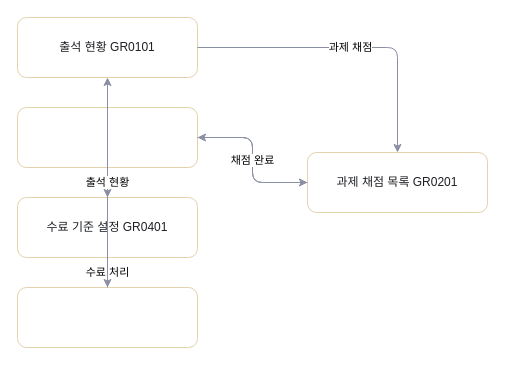
Image size: 505x365. Some labels were removed from this diagram. The shapes that lost their labels are listed below. From the top down, each one's box as (x1, y1, x2, y2) in pixels, then its label:
(16, 106, 198, 168): 과제 채점 - 상세 GR0301
(16, 286, 198, 348): 수료 처리 - 확인 GR0501
